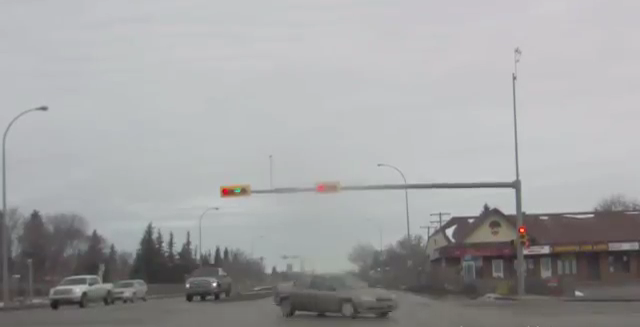car: (272, 269, 397, 318), (49, 275, 115, 308), (185, 265, 233, 302), (108, 278, 149, 303)
